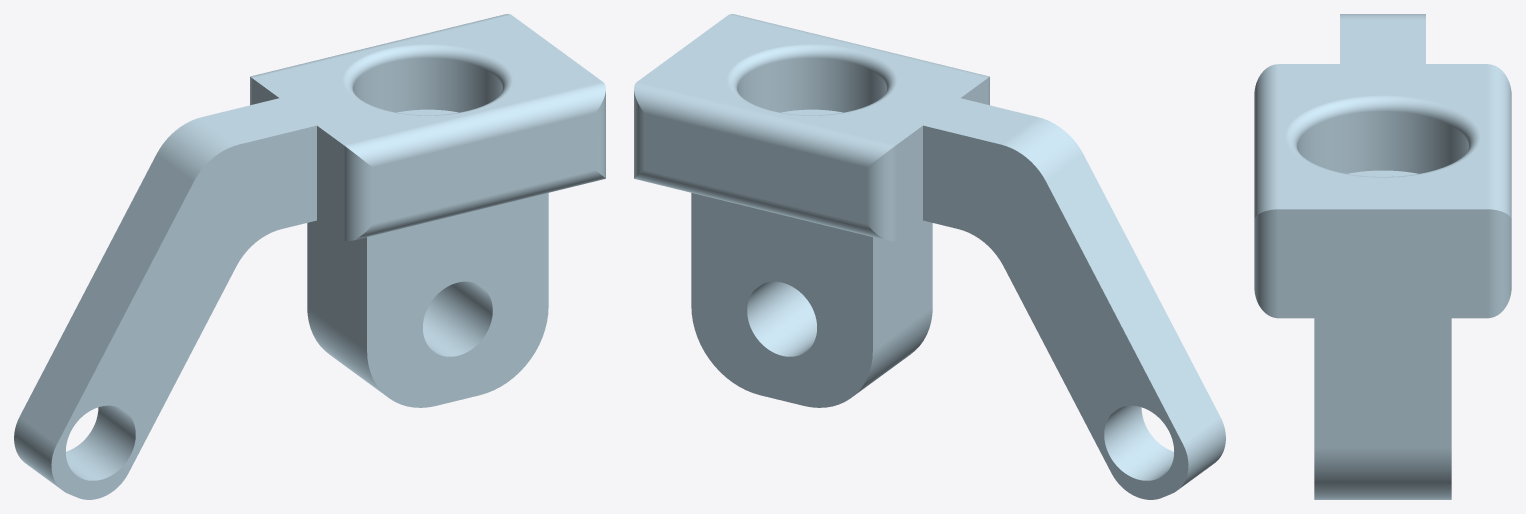
File: wheel_base.gltf
3 renders of one model, left to right at view 1: azimuth 30°, elevation 25°; view 2: azimuth 150°, elevation 25°; view 3: azimuth 270°, elevation 25°, orthographic. The views are drawn at different scales.
Parts seen in each view (by area): view 1: mesh3079, mesh3102, mesh3071, mesh3073, mesh3094, mesh3090, mesh3069, mesh3098, mesh3103, mesh3081, mesh3070, mesh3092 (+7 smaller); view 2: mesh3080, mesh3101, mesh3071, mesh3073, mesh3088, mesh3084, mesh3069, mesh3098, mesh3103, mesh3081, mesh3070, mesh3086 (+7 smaller); view 3: mesh3089, mesh3071, mesh3096, mesh3069, mesh3097, mesh3070, mesh3084, mesh3090, mesh3085, mesh3091, mesh3072, mesh3068.
Boxes of the visible parts, left/top/right/bottom form: mesh3079: left=51, top=125, right=316, bottom=499; mesh3102: left=367, top=193, right=548, bottom=407; mesh3071: left=202, top=15, right=602, bottom=144; mesh3073: left=20, top=155, right=193, bottom=443; mesh3094: left=372, top=113, right=595, bottom=223; mesh3090: left=344, top=82, right=605, bottom=167; mesh3069: left=353, top=58, right=502, bottom=112; mesh3098: left=307, top=220, right=366, bottom=350; mesh3103: left=423, top=281, right=492, bottom=356; mesh3081: left=66, top=405, right=135, bottom=480; mesh3070: left=342, top=44, right=513, bottom=116; mesh3092: left=354, top=170, right=605, bottom=240; mesh3080: left=923, top=125, right=1188, bottom=499; mesh3101: left=691, top=193, right=872, bottom=407; mesh3071: left=637, top=15, right=1037, bottom=144; mesh3073: left=1046, top=155, right=1219, bottom=443; mesh3088: left=644, top=113, right=867, bottom=223; mesh3084: left=634, top=82, right=895, bottom=167; mesh3069: left=737, top=58, right=886, bottom=112; mesh3098: left=873, top=220, right=932, bottom=350; mesh3103: left=747, top=281, right=816, bottom=356; mesh3081: left=1104, top=405, right=1173, bottom=480; mesh3070: left=726, top=44, right=897, bottom=116; mesh3086: left=634, top=170, right=885, bottom=240; mesh3089: left=1278, top=209, right=1487, bottom=318; mesh3071: left=1278, top=20, right=1487, bottom=209; mesh3096: left=1314, top=318, right=1451, bottom=447; mesh3069: left=1297, top=111, right=1468, bottom=173; mesh3097: left=1314, top=447, right=1451, bottom=499; mesh3070: left=1285, top=95, right=1480, bottom=177; mesh3084: left=1487, top=64, right=1511, bottom=218; mesh3090: left=1254, top=64, right=1278, bottom=218; mesh3085: left=1487, top=209, right=1511, bottom=318; mesh3091: left=1254, top=209, right=1278, bottom=318; mesh3072: left=1340, top=14, right=1425, bottom=20; mesh3068: left=1347, top=170, right=1418, bottom=176.
Bounding box in the file's own units: 0.0405 × 0.0236 × 0.015.
